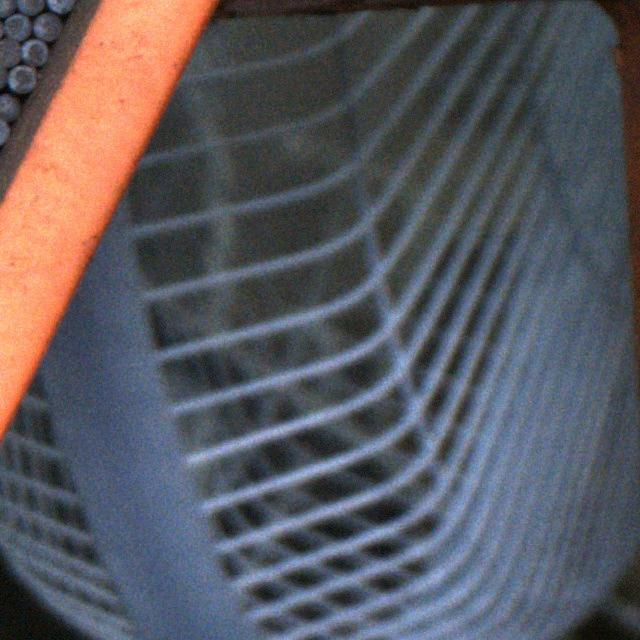tool: (10, 64, 38, 92), (32, 11, 59, 39), (21, 40, 47, 66), (2, 12, 28, 38), (0, 38, 20, 66), (0, 95, 18, 121), (16, 0, 44, 14), (47, 1, 75, 12), (0, 117, 9, 144), (0, 0, 14, 15), (0, 64, 7, 91)
